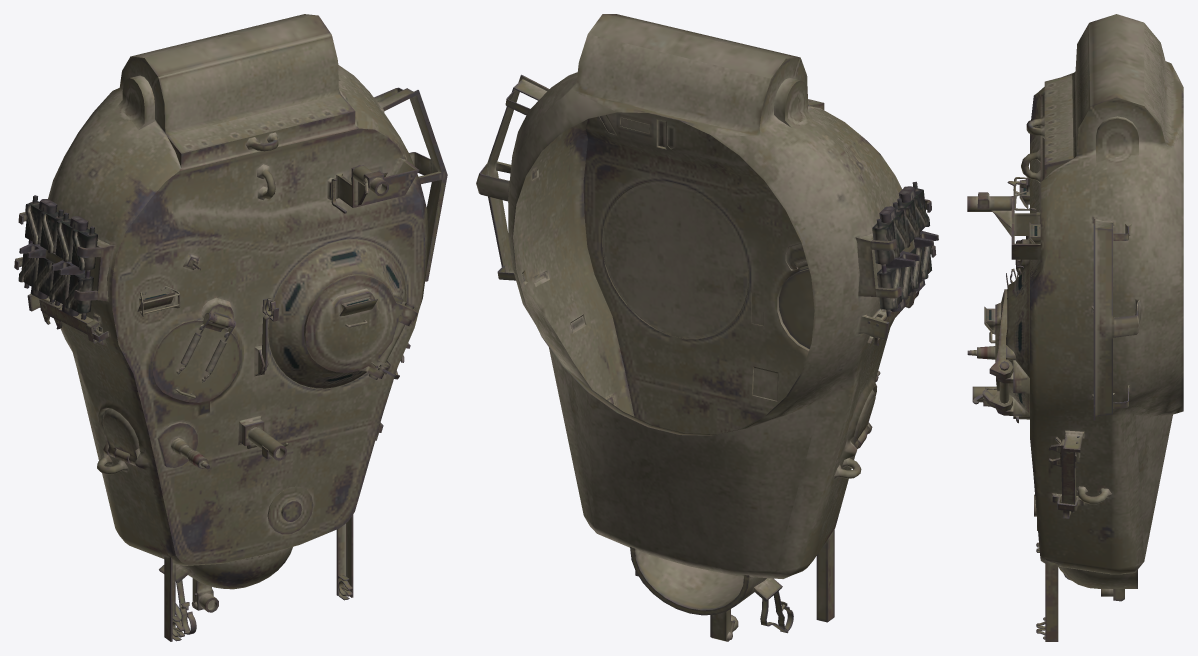
Rendered from Turret_02.glb.
3 renders of one model, left to right at view 1: azimuth 30°, elevation 25°; view 2: azimuth 150°, elevation 25°; view 3: azimuth 270°, elevation 25°, orthographic. The views are drawn at different scales.
Visible parts, largest first — view 1: set_0_group_0; view 2: set_0_group_0; view 3: set_0_group_0.
Boxes of the visible parts, <box> form: set_0_group_0: <box>14,14,447,641</box>; set_0_group_0: <box>476,14,938,641</box>; set_0_group_0: <box>967,14,1183,641</box>.
Bounding box in the file's own units: 2.81 × 3.66 × 1.29.
1 material, 1 textured.
